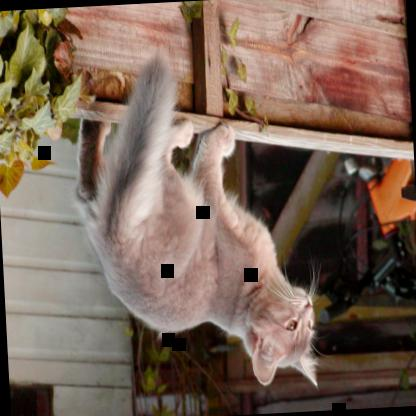cat: (68, 43, 318, 399)
